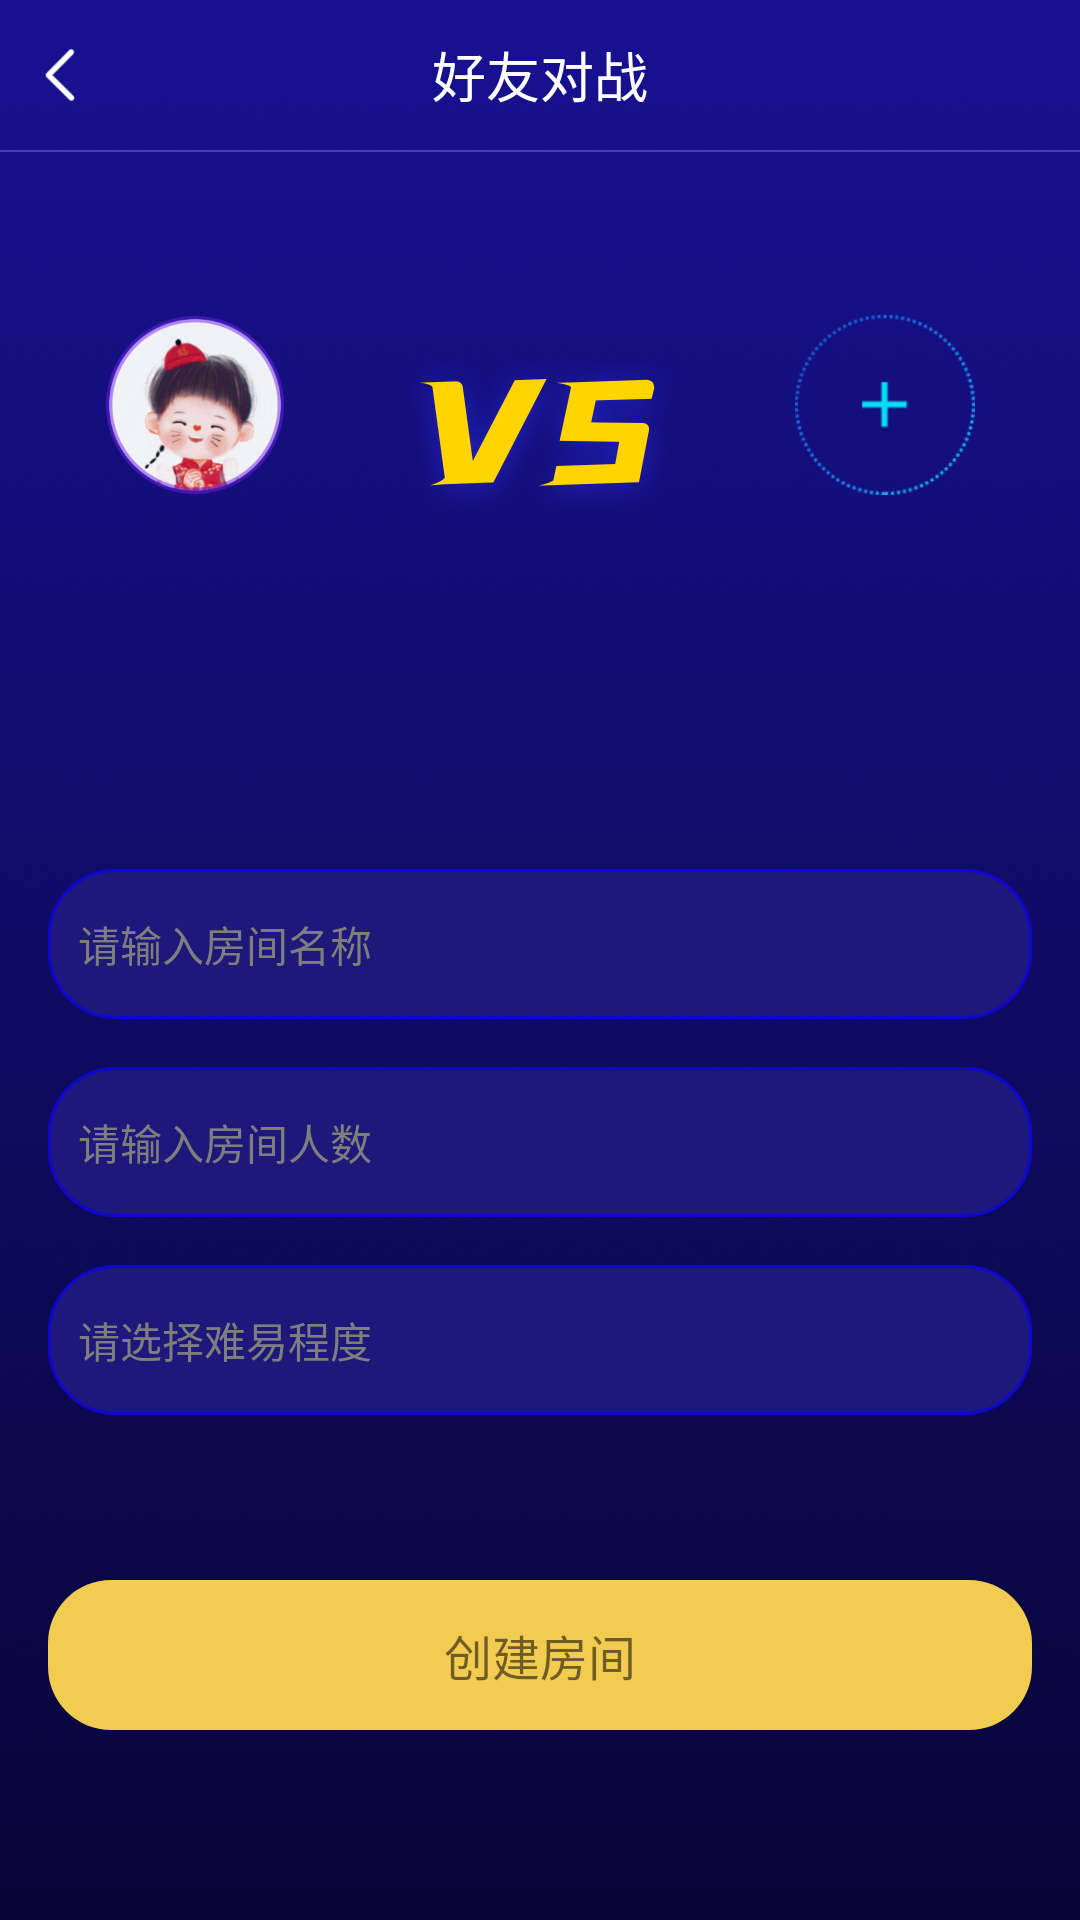

Where to tap for icons on this 1080x1920 app screen, as (x,y):
back: (60,75)
head: (195,405)
invite: (885,405)
